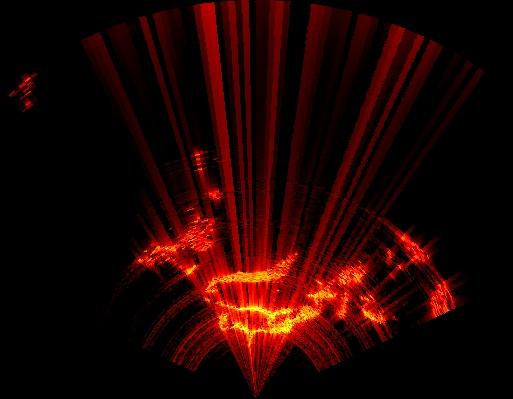shipwreck: (203, 254, 306, 342), (305, 263, 394, 323), (136, 233, 211, 266), (431, 282, 453, 315), (400, 234, 429, 259)
